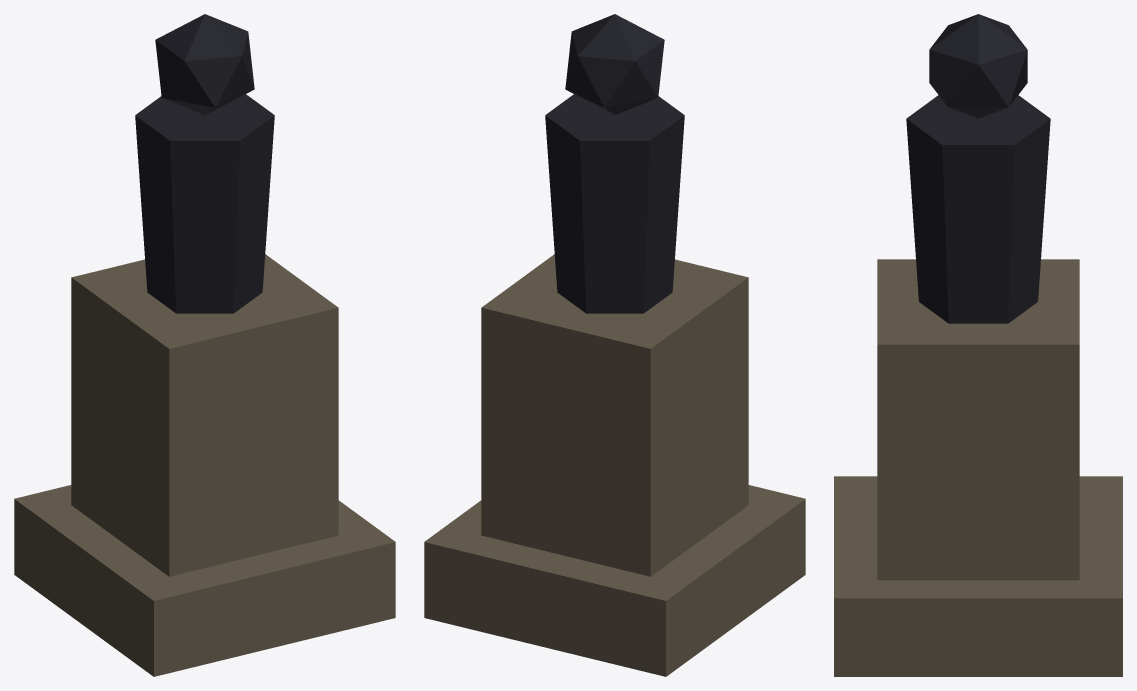
Rendered from statue_pedestal.obj.
3 views of the same model, side by side, from view 1: azimuth 30°, elevation 25°; view 2: azimuth 150°, elevation 25°; view 3: azimuth 270°, elevation 25° (orthographic). The views are drawn at different scales.
Parts seen in each view (by area): view 1: statue_pedestal; view 2: statue_pedestal; view 3: statue_pedestal.
Boxes of the visible parts, x1,y1,x2,y2 form: statue_pedestal: [14, 14, 395, 676]; statue_pedestal: [424, 14, 805, 676]; statue_pedestal: [834, 14, 1122, 676].
Bounding box in the file's own units: 1 × 2.3 × 1.
